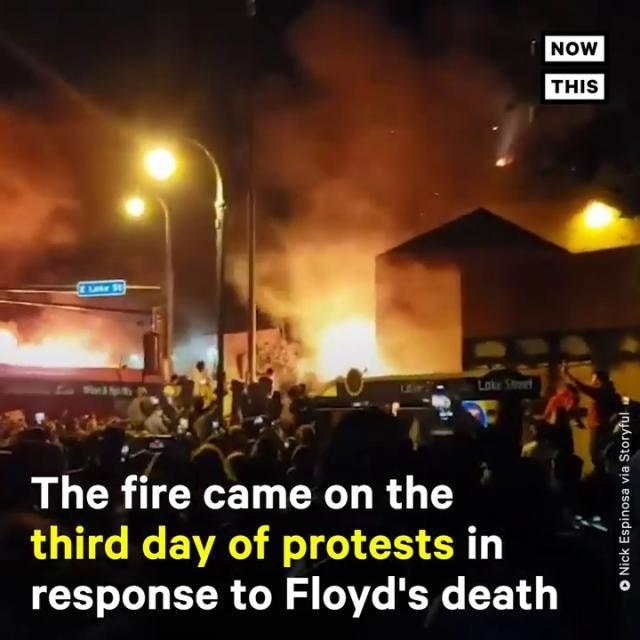Fire: (289, 274, 407, 396), (0, 313, 124, 379)
Smoke: (226, 0, 541, 292), (0, 1, 121, 291)
